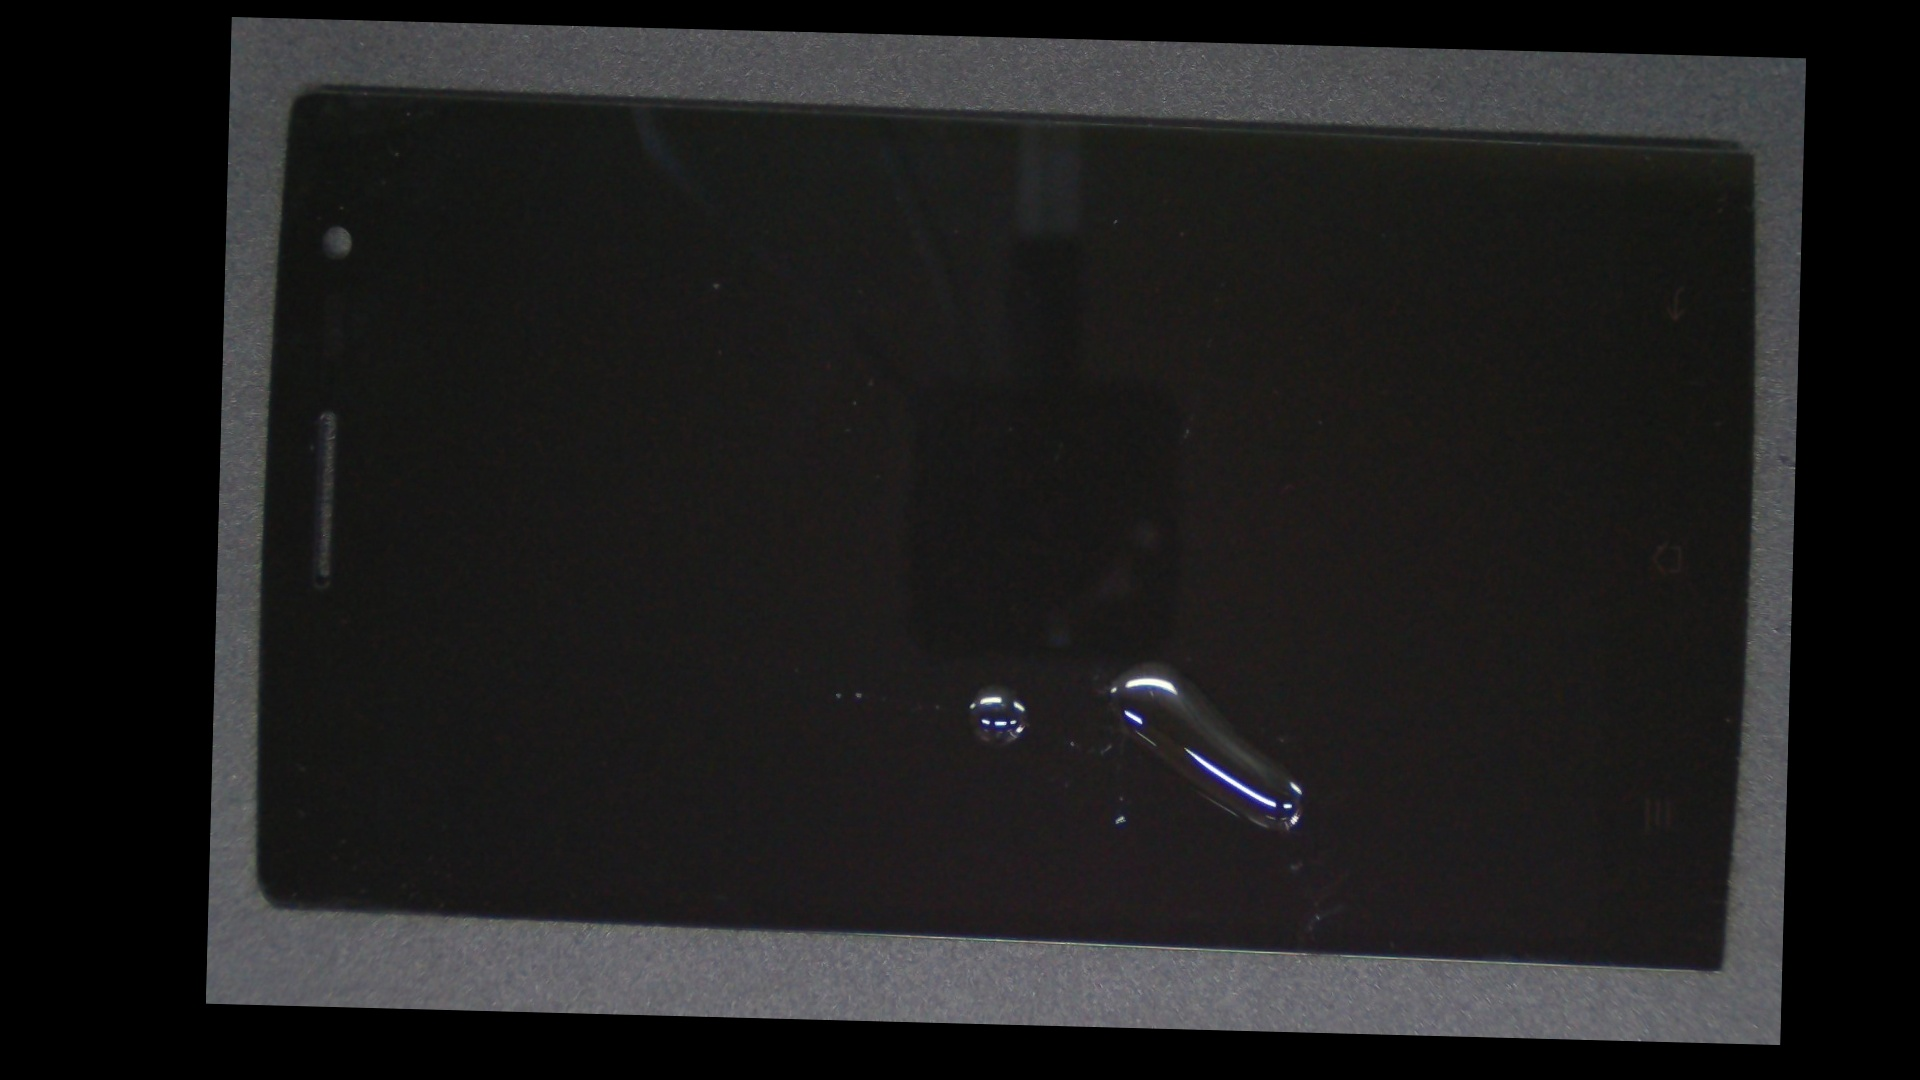oil: (673, 339, 1619, 985), (595, 351, 1386, 1019)
